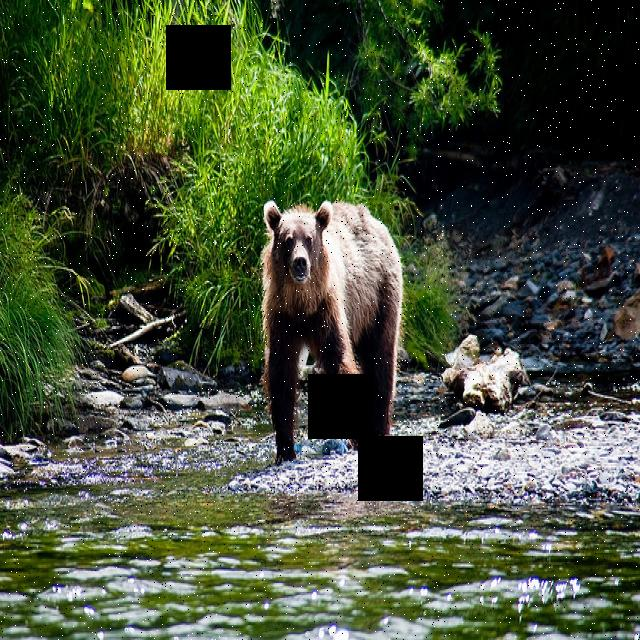Bear: (255, 186, 406, 456)
